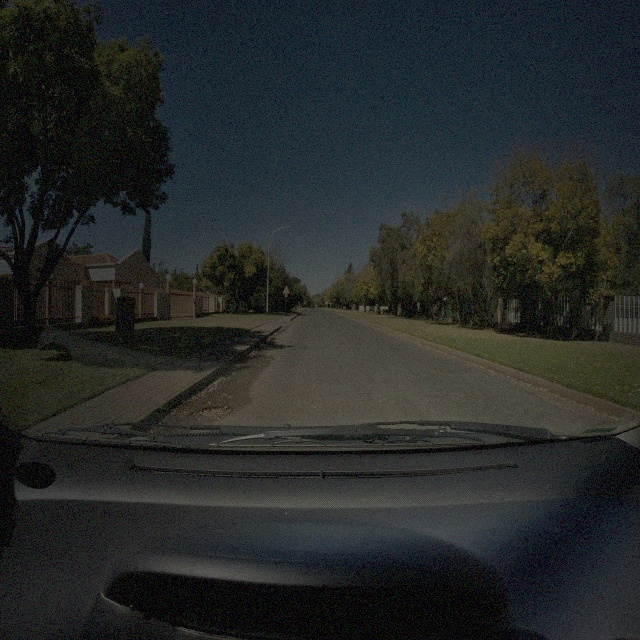pothole: (188, 404, 234, 420)
